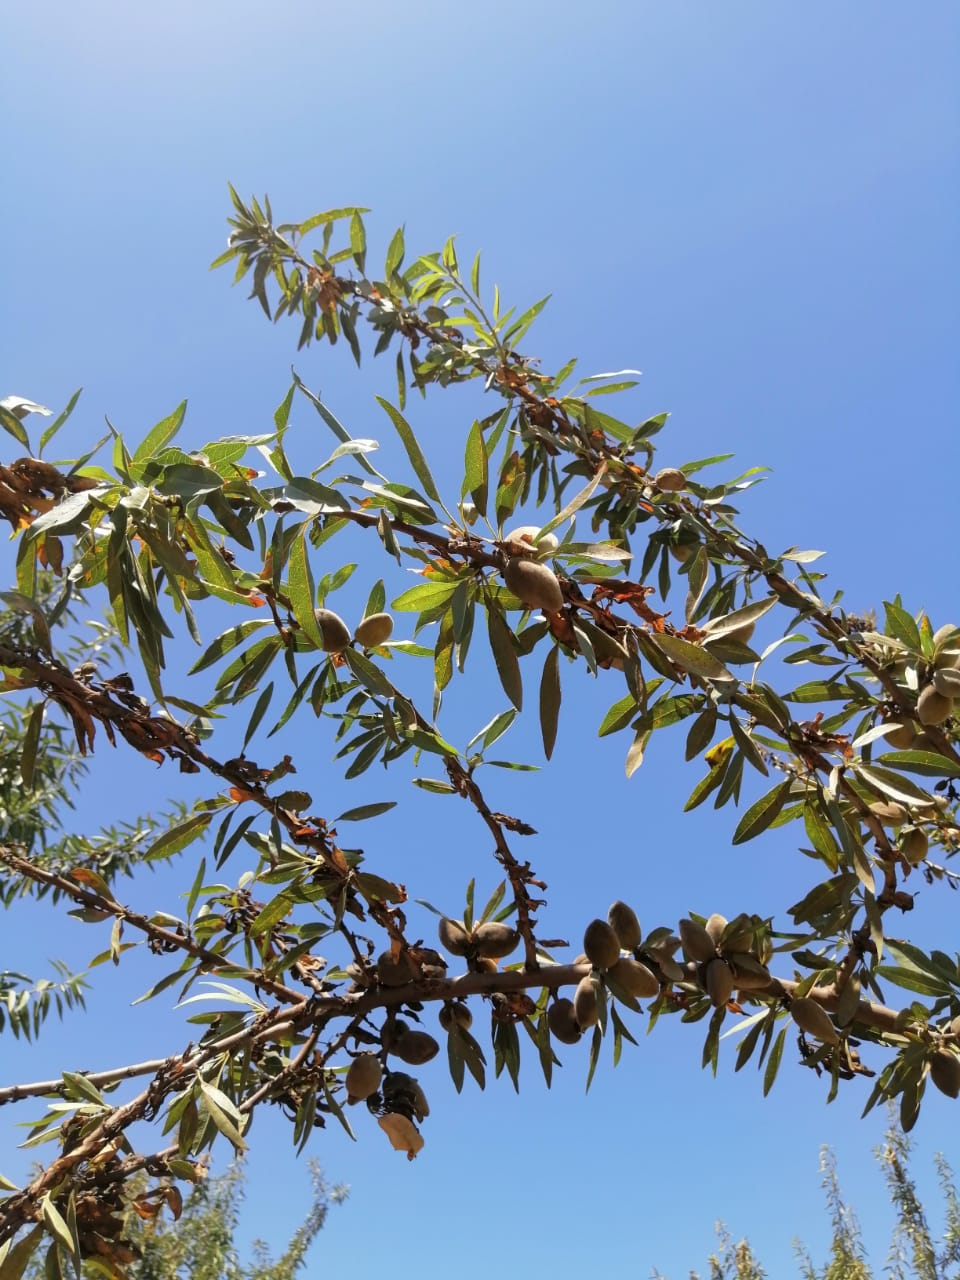scolytes: (1, 622, 411, 942), (295, 264, 722, 548), (418, 514, 857, 781), (65, 867, 198, 957), (203, 885, 324, 984)
